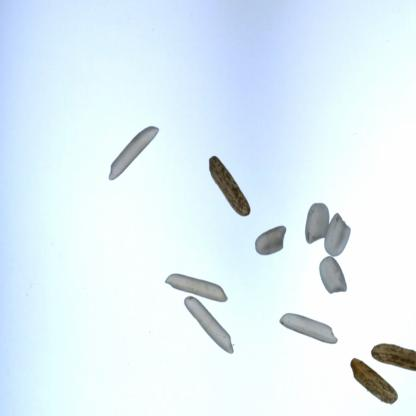Full: (96, 103, 164, 188), (198, 144, 260, 221), (180, 286, 236, 364), (344, 354, 404, 405), (273, 303, 337, 345), (160, 272, 234, 306), (353, 330, 416, 368), (245, 211, 291, 253), (310, 246, 349, 290), (319, 202, 352, 251), (301, 194, 331, 242)
